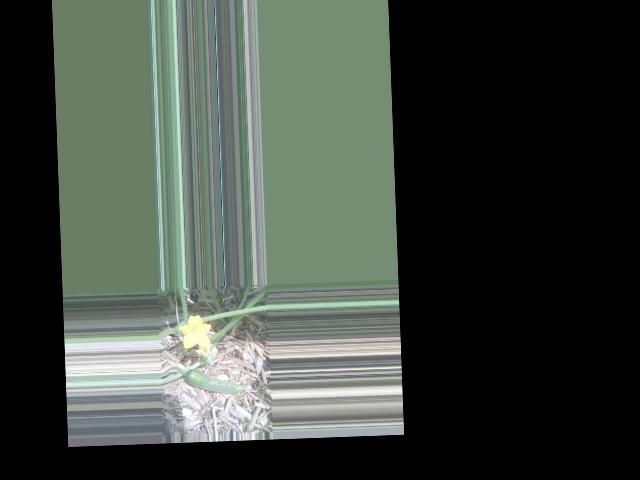cucumber: (184, 366, 249, 396)
